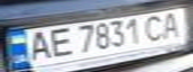1: (124, 16, 145, 45)
3: (109, 18, 130, 48)
7: (72, 22, 96, 54)
8: (93, 20, 115, 51)
A: (21, 29, 54, 62), (157, 10, 187, 39)
C: (139, 12, 169, 43)
E: (45, 25, 75, 58)
